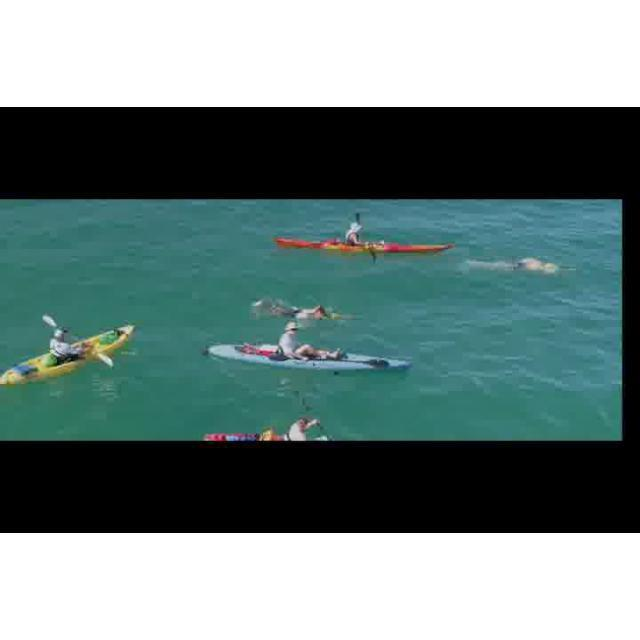human: (252, 297, 356, 325)
